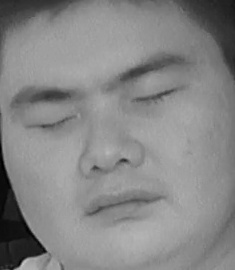blink: (27, 104, 79, 137), (132, 79, 182, 113)
mouth: (84, 179, 167, 224)
